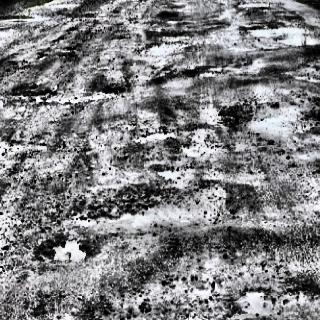pothole: (36, 236, 90, 267), (248, 27, 320, 48), (141, 33, 195, 55), (143, 127, 179, 145), (156, 164, 184, 184)
